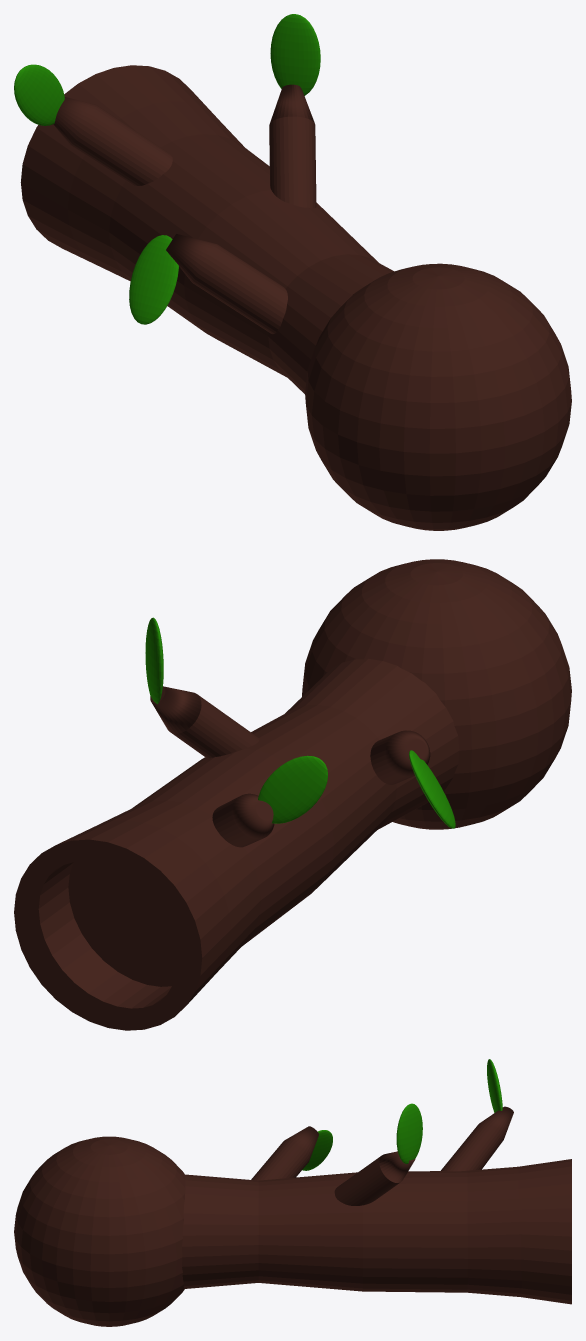
File: simple_turret.glb
3 views of the same model, one above another, from view 1: azimuth 30°, elevation 25°; view 2: azimuth 150°, elevation 25°; view 3: azimuth 270°, elevation 25° (orthographic). The views are drawn at different scales.
Parts seen in each view (by area): view 1: Cylinder.003, Sphere, Sphere.001, Sphere.002; view 2: Cylinder.003, Sphere.002, Sphere.001, Sphere; view 3: Cylinder.003, Sphere, Sphere.001, Sphere.002.
Boxes of the visible parts, <box> form: Cylinder.003: <box>20,65,571,530</box>; Sphere: <box>270,14,320,95</box>; Sphere.001: <box>129,235,178,324</box>; Sphere.002: <box>14,64,64,125</box>; Cylinder.003: <box>14,559,571,1030</box>; Sphere.002: <box>258,755,327,823</box>; Sphere.001: <box>409,750,455,828</box>; Sphere: <box>145,617,163,704</box>; Cylinder.003: <box>14,1106,571,1326</box>; Sphere: <box>396,1103,422,1163</box>; Sphere.001: <box>302,1130,332,1170</box>; Sphere.002: <box>487,1059,502,1112</box>.
Bounding box in the file's own units: 1.77 × 2.04 × 4.35.
